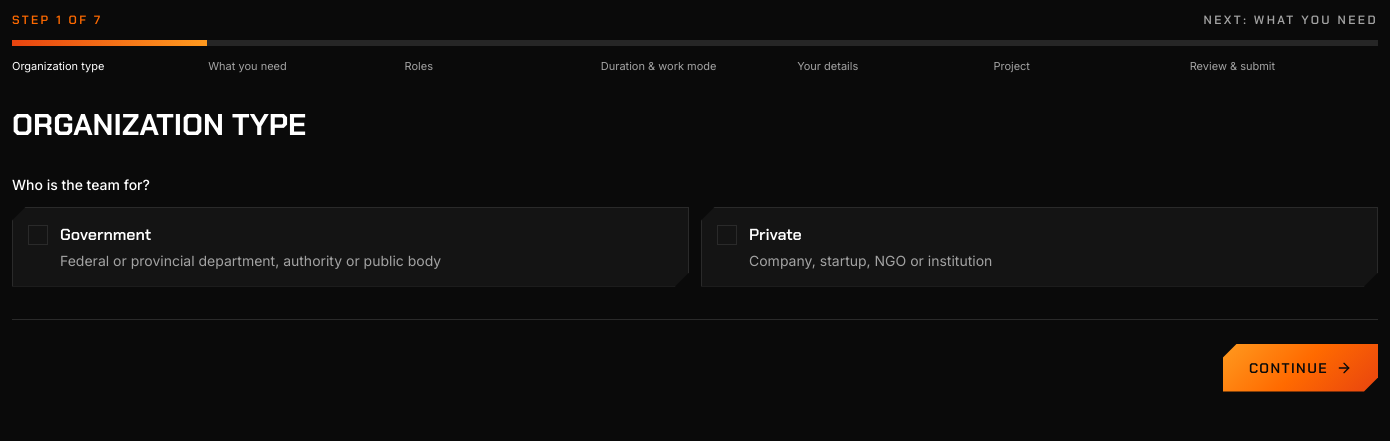
Test: HireWizard › blocks the first step until an organization type is chosen
This screenshot has width=1390, height=441.
Later steps or results of the test are not shown.
Click the button "Continue".
click(1300, 368)  # box [1223,344,1378,392]
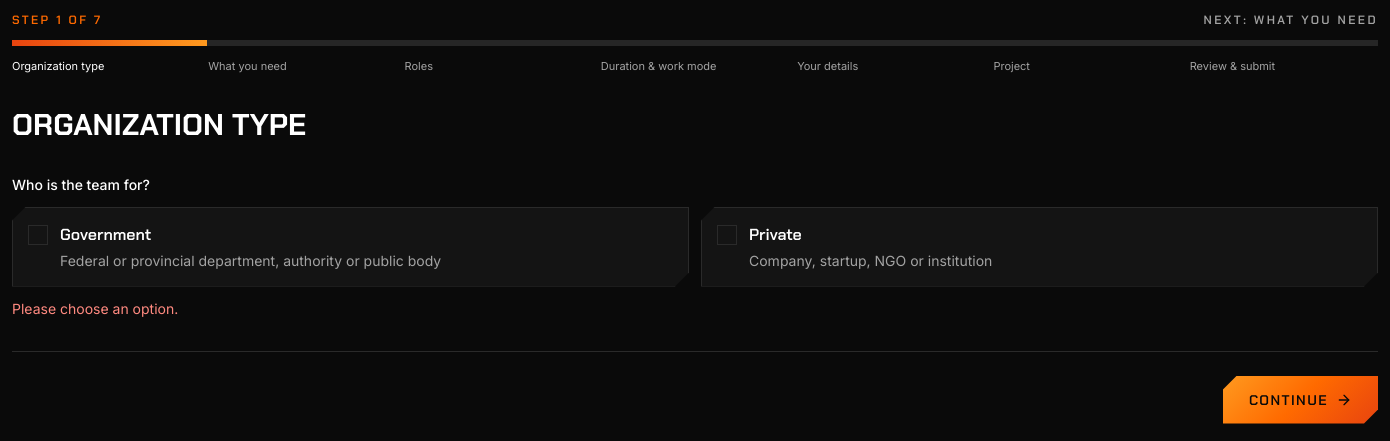
Expected: the text "Please choose an option." is shown, [12,300,178,316]
